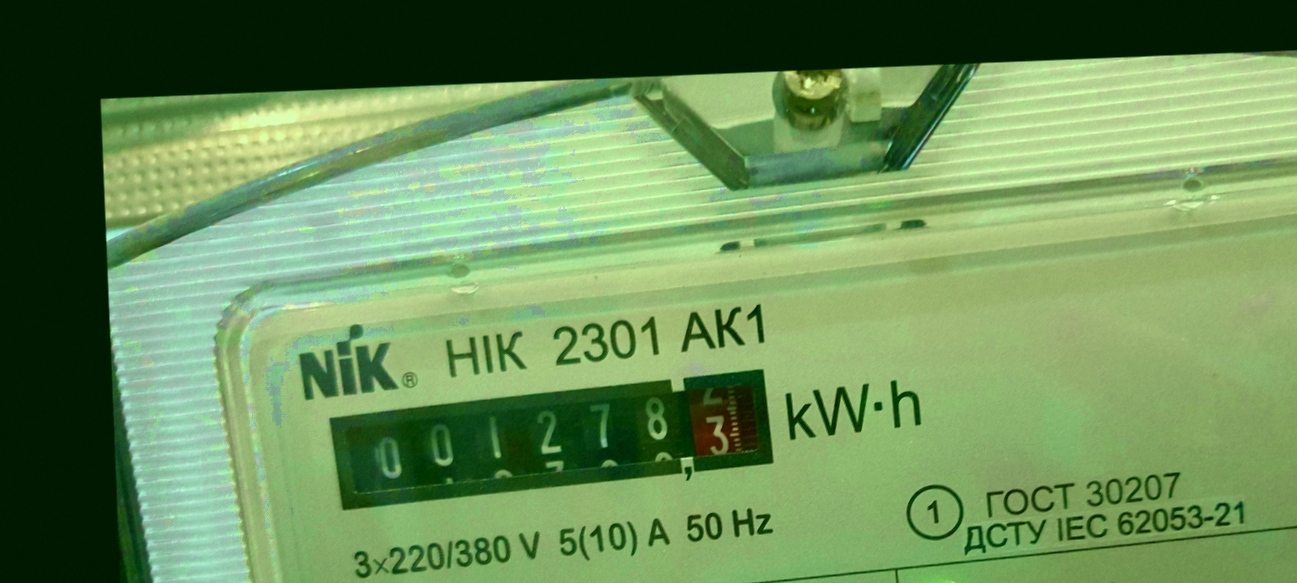0: (374, 431, 404, 480), (427, 420, 454, 467)
1: (485, 412, 504, 461)
2: (533, 407, 562, 454), (697, 385, 724, 407)
3: (702, 410, 730, 454)
7: (587, 400, 612, 449)
8: (641, 394, 669, 442)
screen: (308, 357, 790, 519)
